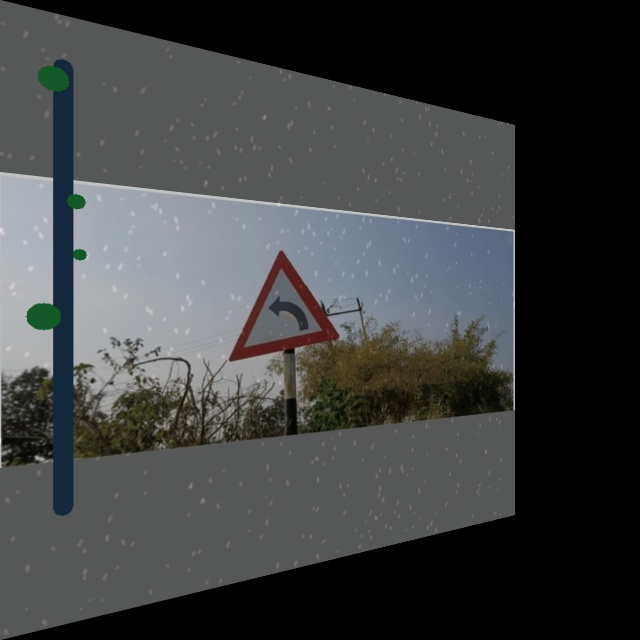Left_Hand_Curve: (228, 244, 333, 357)
